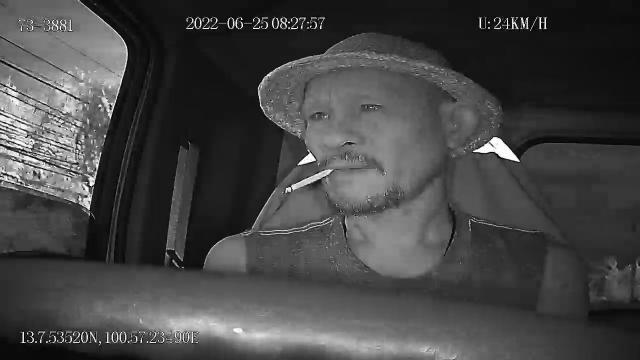SafeDriving: (352, 94, 389, 118), (304, 103, 338, 125)
Smoking: (284, 168, 334, 195)
